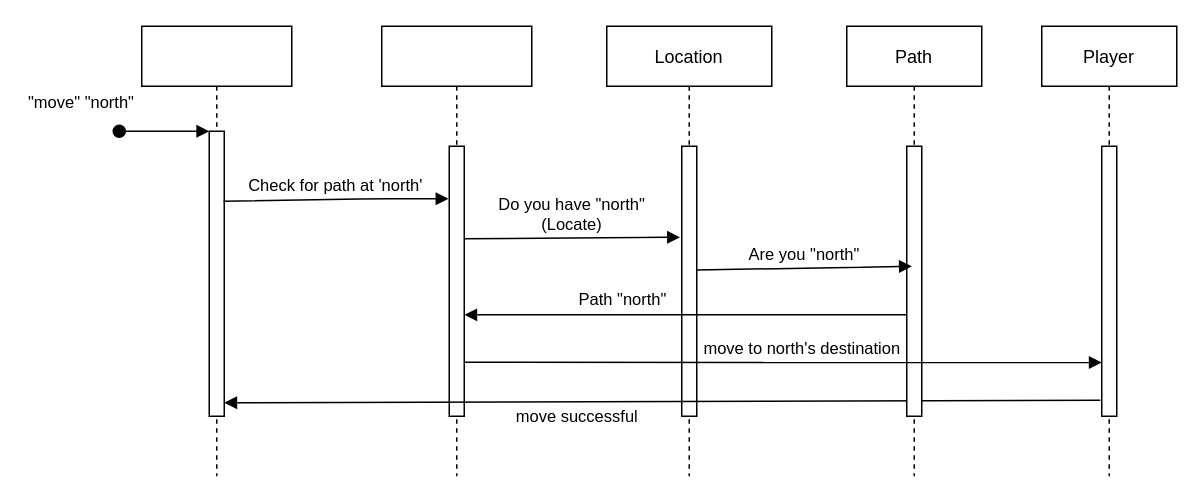
Some shapes in this 1203 by 503 pixel diagram are drawn without their labels. The box of each missing label's shape, as (x1, y1, x2, y2) in pixels:
Move: (380, 25, 532, 476)
Program: (140, 25, 292, 476)
